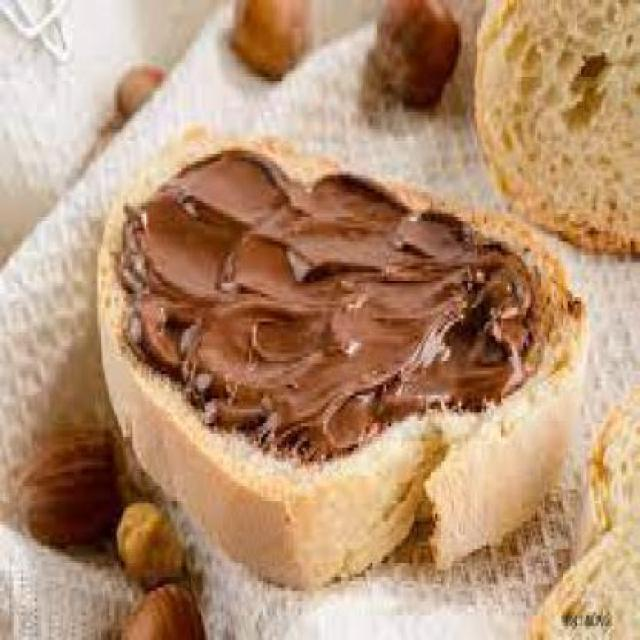Spread: (100, 143, 544, 480)
